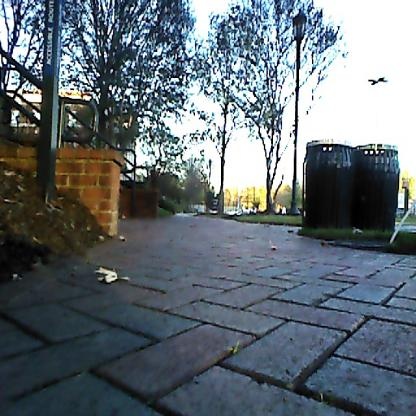Edge: (216, 209, 416, 287), (0, 207, 146, 311)
Sidewalk: (0, 217, 416, 416)
